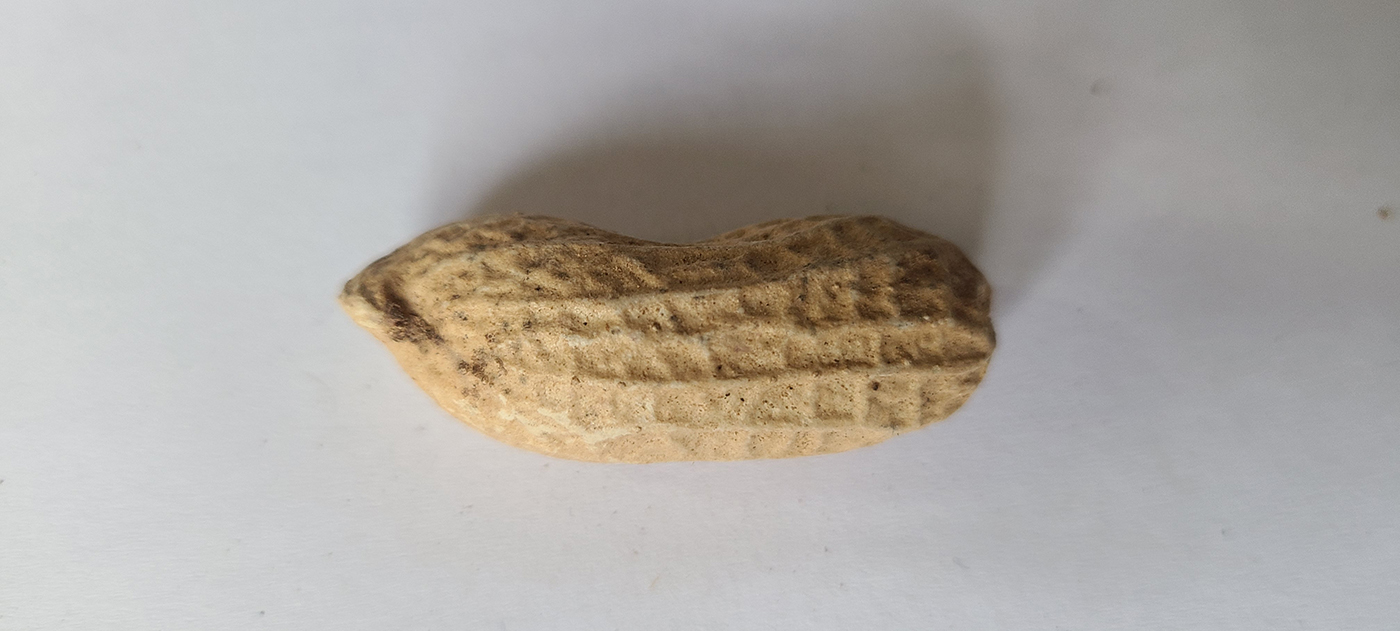h: (343, 206, 1001, 466)
